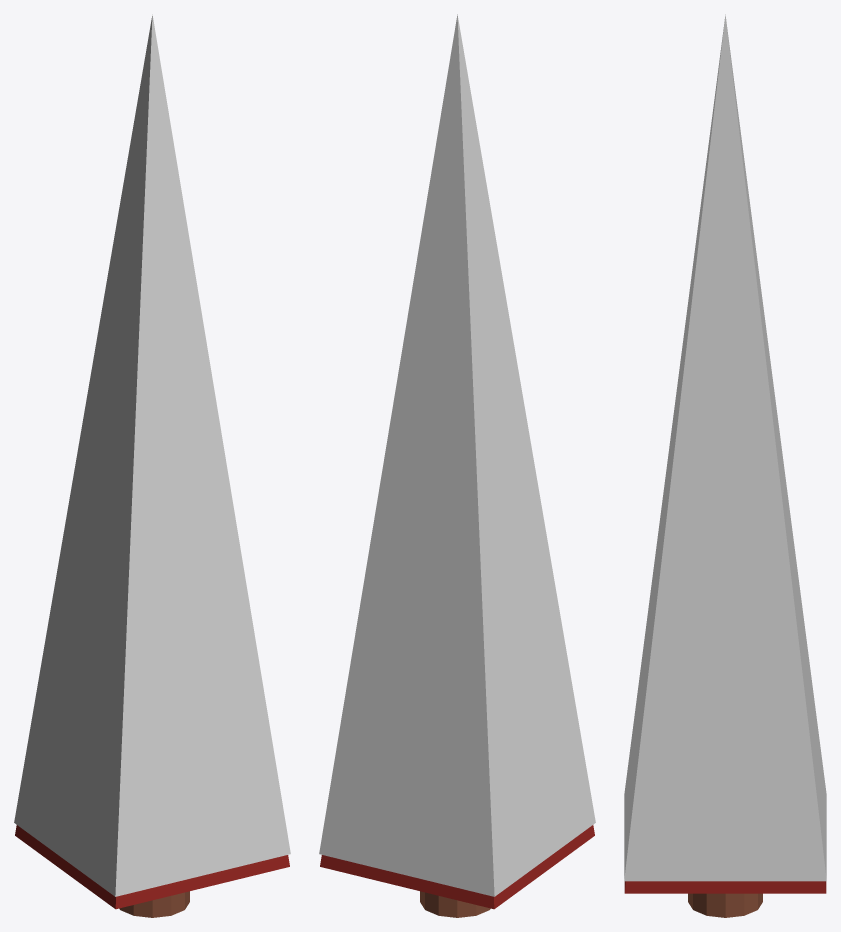
File: Tree_19_winter_gradient_red.fbx
3 renders of one model, left to right at view 1: azimuth 30°, elevation 25°; view 2: azimuth 150°, elevation 25°; view 3: azimuth 270°, elevation 25°, orthographic.
Visible parts, largest first — view 1: Tree_19_winter_gradient_red; view 2: Tree_19_winter_gradient_red; view 3: Tree_19_winter_gradient_red.
Part boxes in pixels (x1,y1,x2,y2): Tree_19_winter_gradient_red: [14, 14, 290, 917]; Tree_19_winter_gradient_red: [319, 14, 595, 917]; Tree_19_winter_gradient_red: [624, 14, 826, 917].
Size of the model in its own units: 60.03 by 290 by 60.03.
